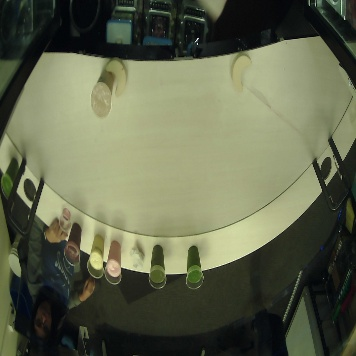full_cup: (90, 70, 122, 119), (182, 241, 206, 291), (145, 240, 169, 290), (103, 240, 127, 290), (85, 235, 109, 285), (66, 220, 90, 270), (1, 151, 23, 201)
puck: (99, 51, 130, 97), (229, 53, 257, 94)
